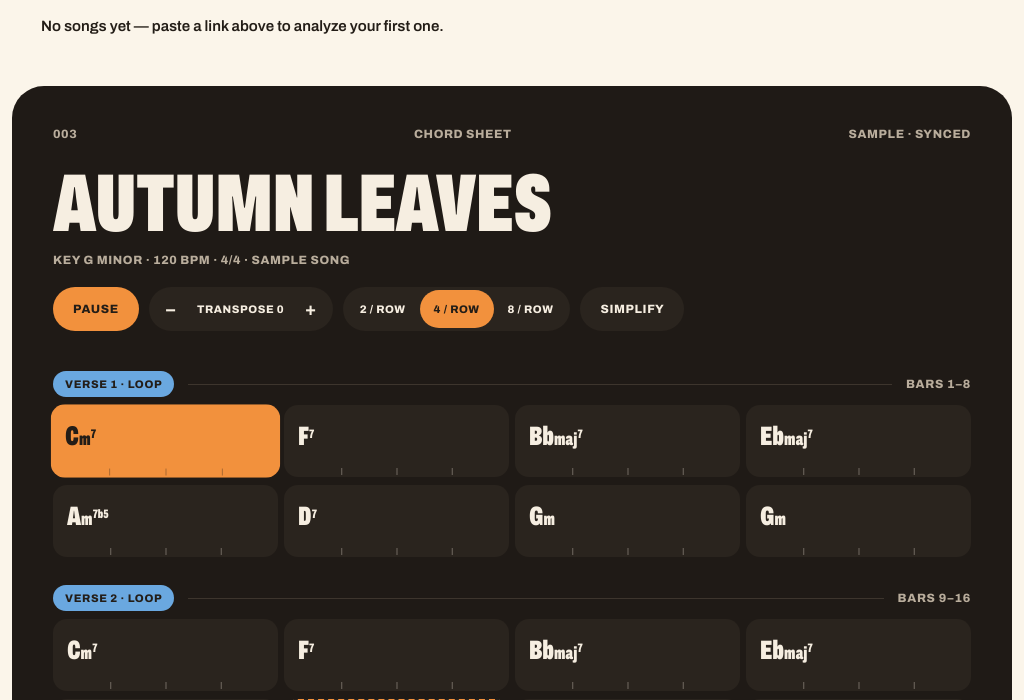
HomePage sample sheet › loops a section and transposes the sample
(page scrolled)
Click the button "VERSE 1 · LOOP" at (114, 384), box [53,371,174,397]
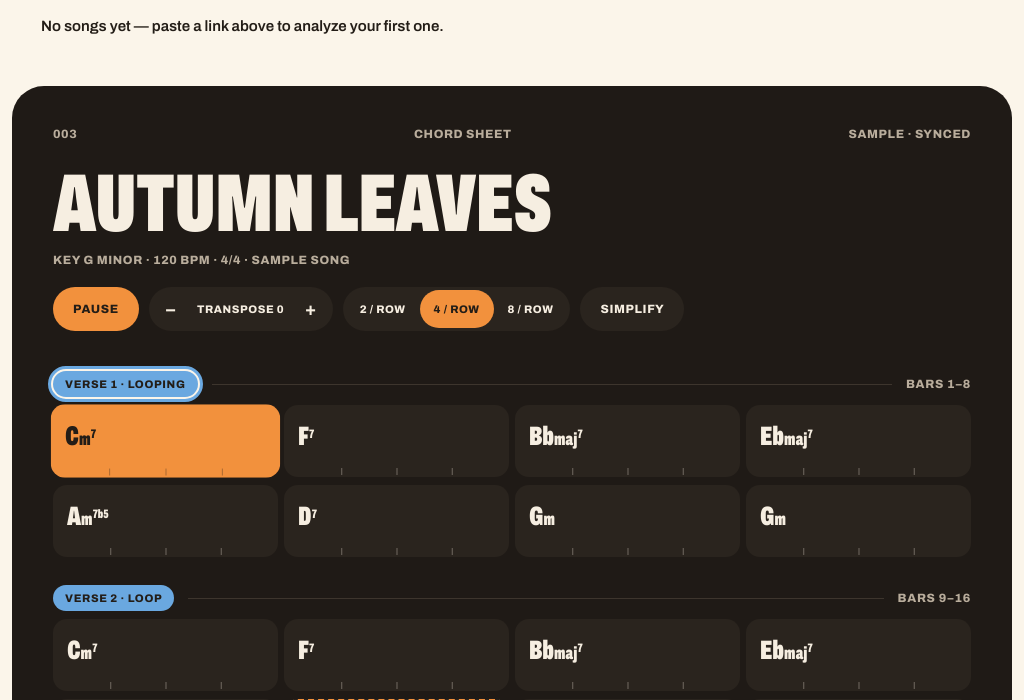
expect the button "VERSE 1 · LOOPING" is shown: met, box [53,371,198,397]
Click the button named "Sheet transpose up" at (311, 309), box [289,287,333,331]
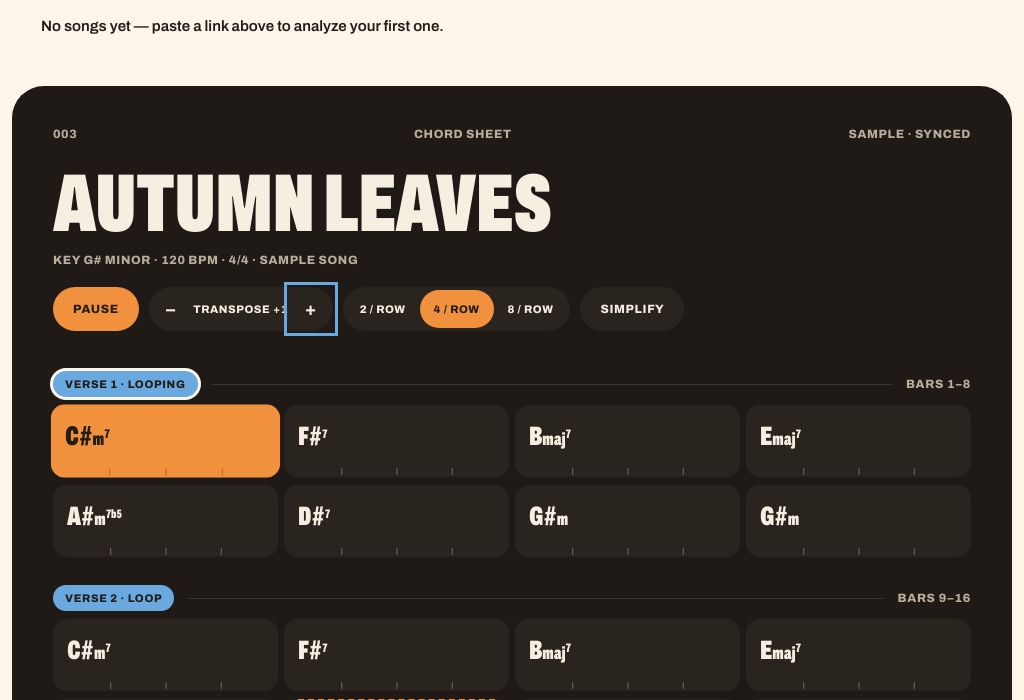
expect the text "TRANSPOSE +1" is shown: met, box [193,303,289,315]
